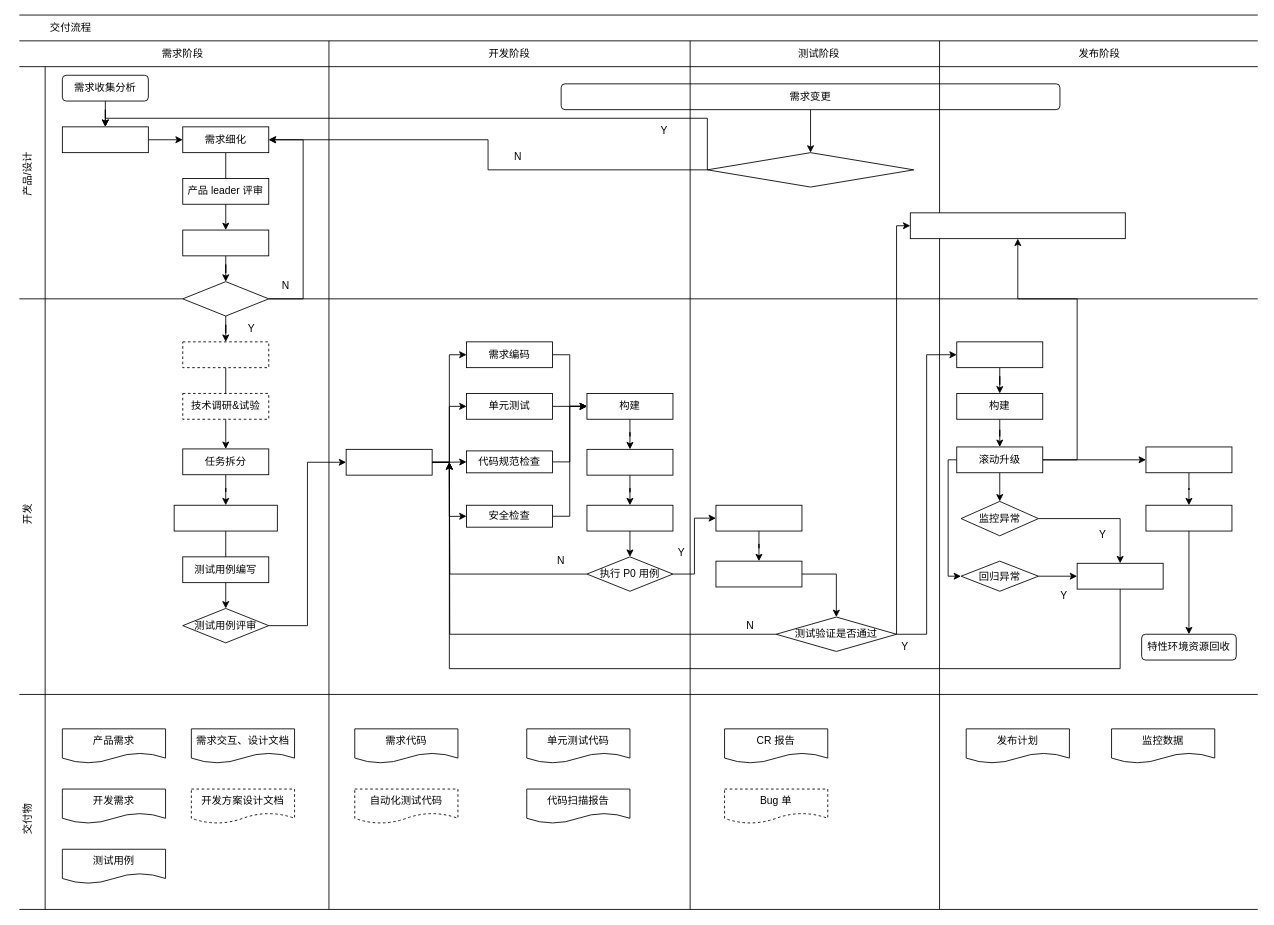
This 1274x925 diagram has some shape labels left out. Here are the shapes that lost their labels. From the top down, the box of each, then its label:
(61, 126, 148, 153): 需求创建
(706, 152, 914, 187): 评估变更工作量是否超过 3 人天
(182, 229, 269, 256): 交互/原型图设计
(909, 212, 1125, 239): 产品体验
(182, 281, 269, 316): 需求评审
(182, 341, 269, 368): 架构设计
(956, 341, 1043, 368): 打 tag
(345, 448, 432, 475): 检出个人分支
(586, 448, 673, 475): 部署
(1145, 446, 1232, 473): 发布完毕
(173, 504, 277, 531): 评估工作量&确认排期
(586, 504, 673, 531): 调试
(715, 504, 802, 531): 提交合并请求
(1145, 504, 1232, 531): 合并代码
(715, 560, 802, 587): 提测
(1076, 562, 1163, 589): 回滚到上一版本
